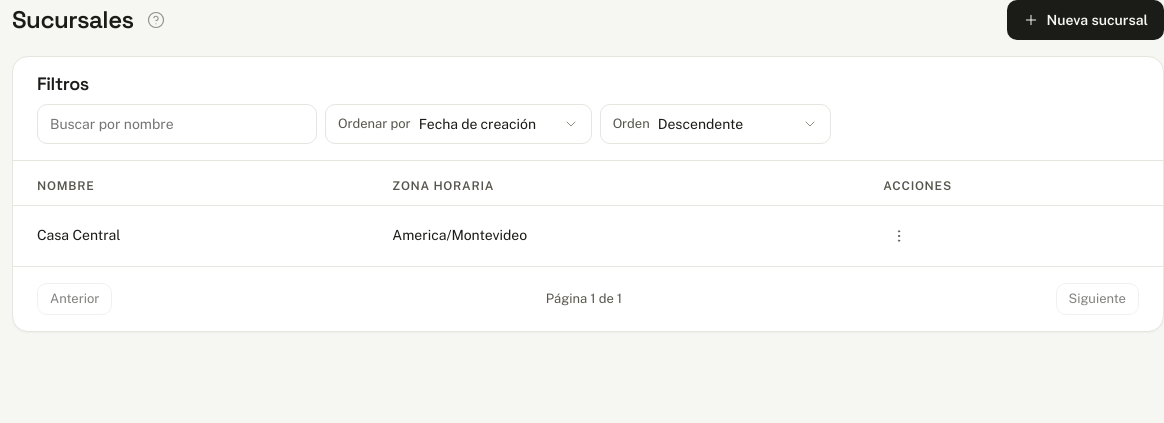
Scenario: BranchListPage › eliminar › un DELETE fallido por otro motivo también muestra el mensaje del backend
Expected: the text "Casa Central" is shown, [13,205,376,266]
Click the button named "Más acciones": (899, 236) [883,220,915,252]
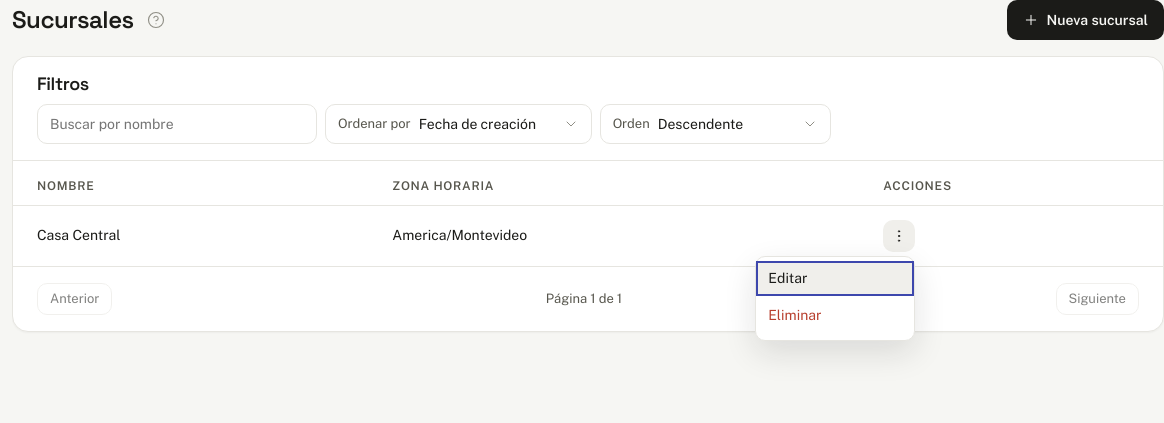
Click the menu item "Eliminar": (835, 316) [756,296,914,336]
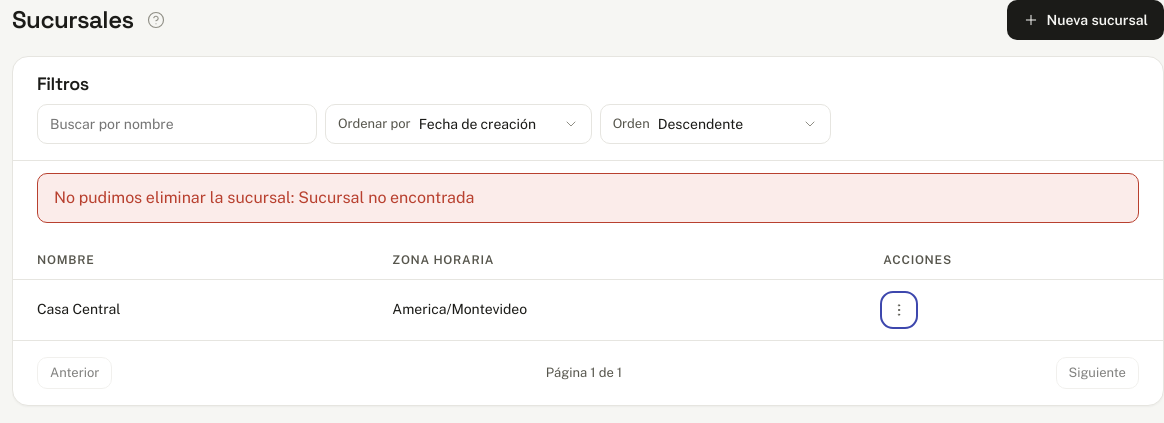
Now the message shows "Sucursal no encontrada", box [291,188,474,206]
